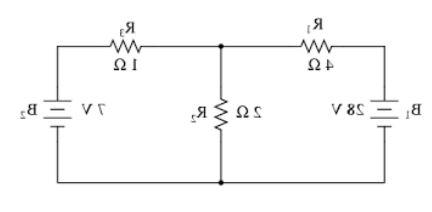resistor: (289, 31, 343, 61), (210, 89, 237, 141), (97, 30, 147, 58)
